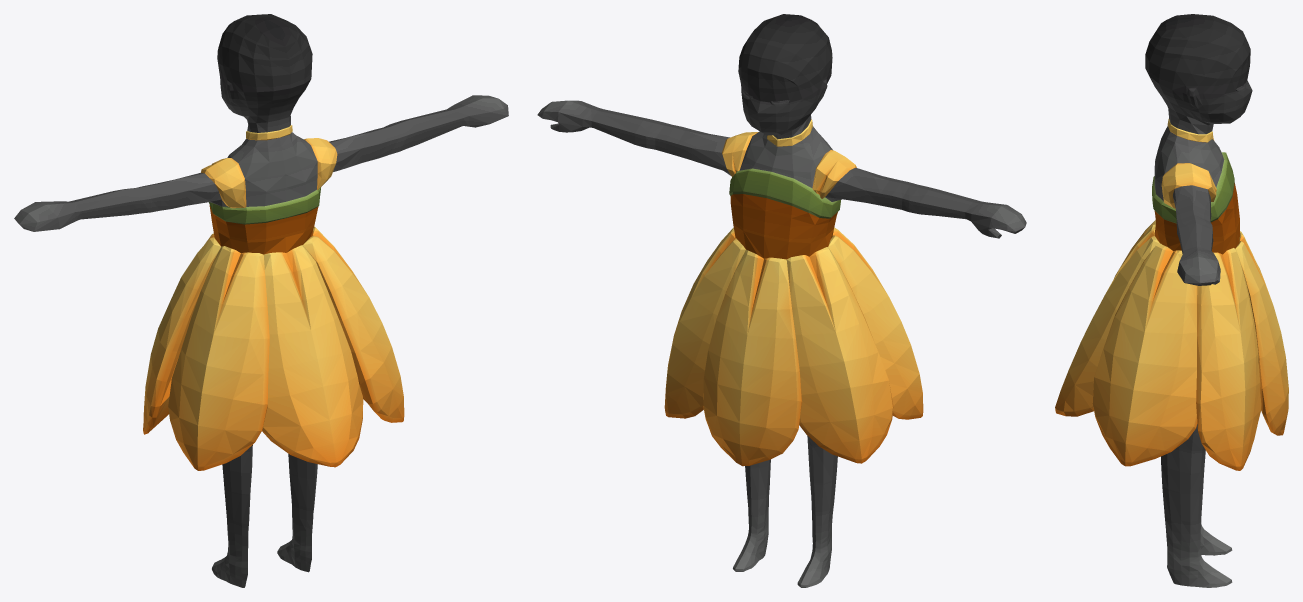
File: CharSkyKid_Body_BloomSunflowerDress.glb
3 renders of one model, left to right at view 1: azimuth 30°, elevation 25°; view 2: azimuth 150°, elevation 25°; view 3: azimuth 270°, elevation 25°, orthographic.
Visible parts, largest first — view 1: CharSkyKid_Body_BloomSunflowerDress; view 2: CharSkyKid_Body_BloomSunflowerDress; view 3: CharSkyKid_Body_BloomSunflowerDress.
Boxes of the visible parts, bbox=[...] form: CharSkyKid_Body_BloomSunflowerDress: bbox=[14, 14, 508, 587]; CharSkyKid_Body_BloomSunflowerDress: bbox=[537, 14, 1026, 587]; CharSkyKid_Body_BloomSunflowerDress: bbox=[1055, 14, 1288, 587].
Bounding box in the file's own units: 13.83 × 14.94 × 5.76.
Materials: 1 (1 with a texture image).
